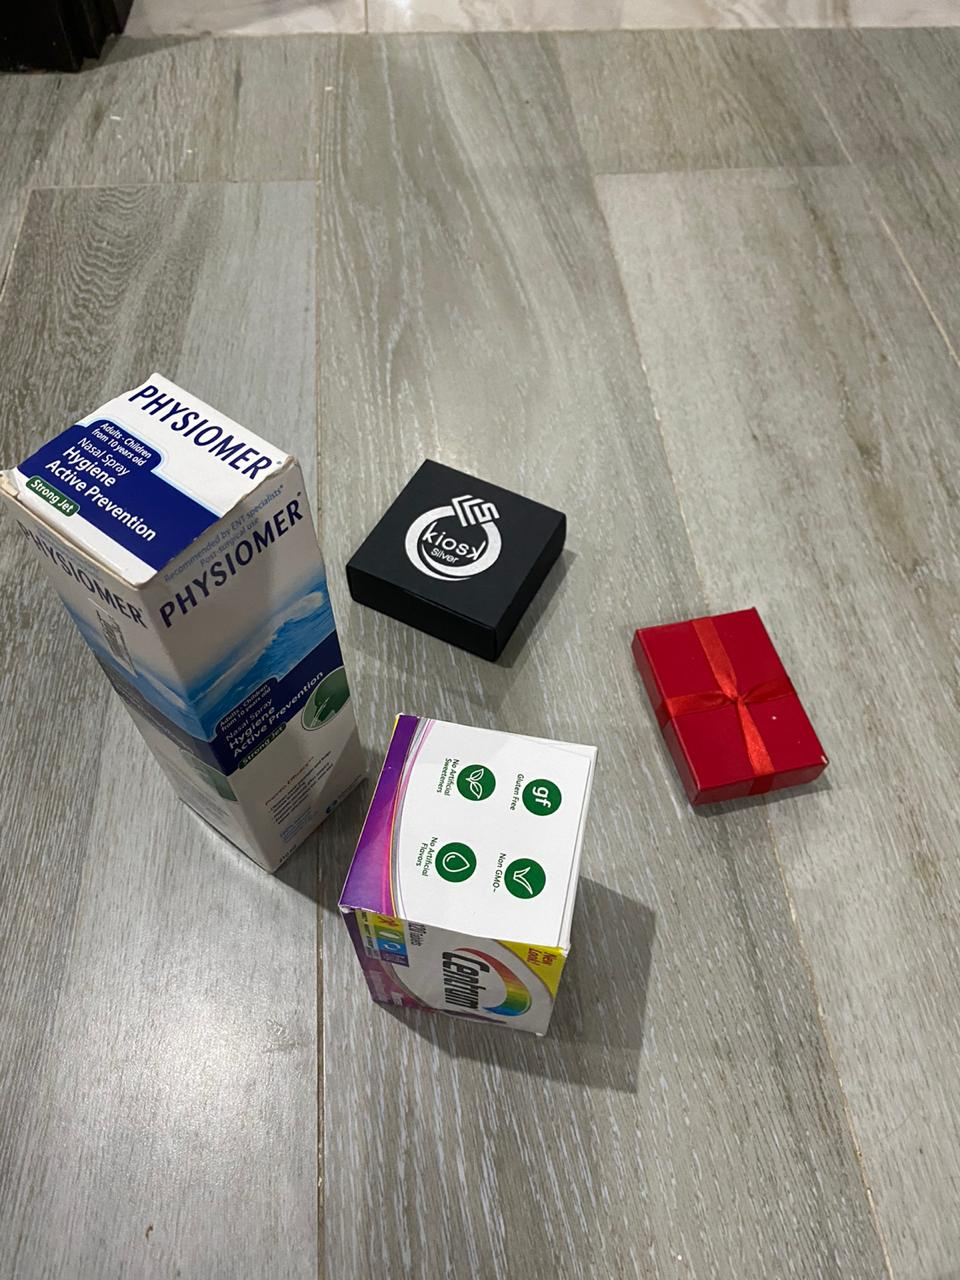Black Box: (631, 604, 834, 820)
Centrum: (339, 713, 599, 1042)
Physiomer: (12, 370, 372, 887)
Red Box: (345, 459, 569, 668)
